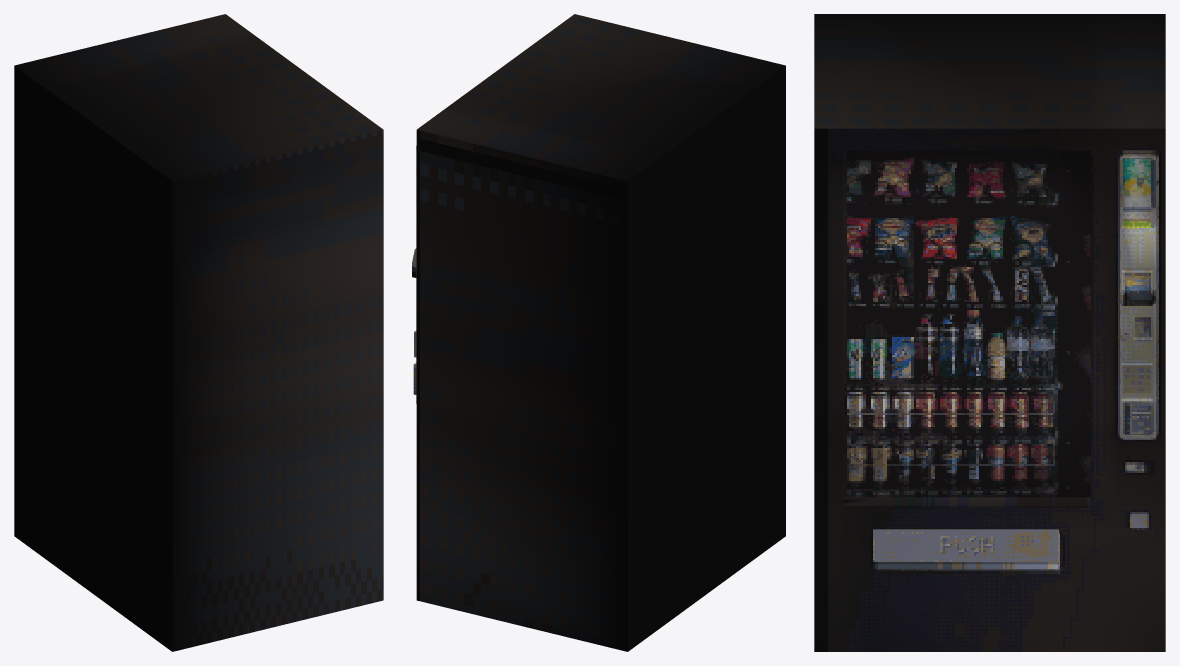
The model's file is Vending Machine.glb.
3 renders of one model, left to right at view 1: azimuth 30°, elevation 25°; view 2: azimuth 150°, elevation 25°; view 3: azimuth 270°, elevation 25°, orthographic. The views are drawn at different scales.
Visible parts, largest first — view 1: Cube; view 2: Cube; view 3: Cube.
Part boxes in pixels (bbox=[...]): Cube: bbox=[14, 14, 383, 651]; Cube: bbox=[412, 14, 785, 651]; Cube: bbox=[814, 14, 1165, 651].
Bounding box in the file's own units: 0.794 × 1.61 × 0.9805.
1 material, 1 textured.
